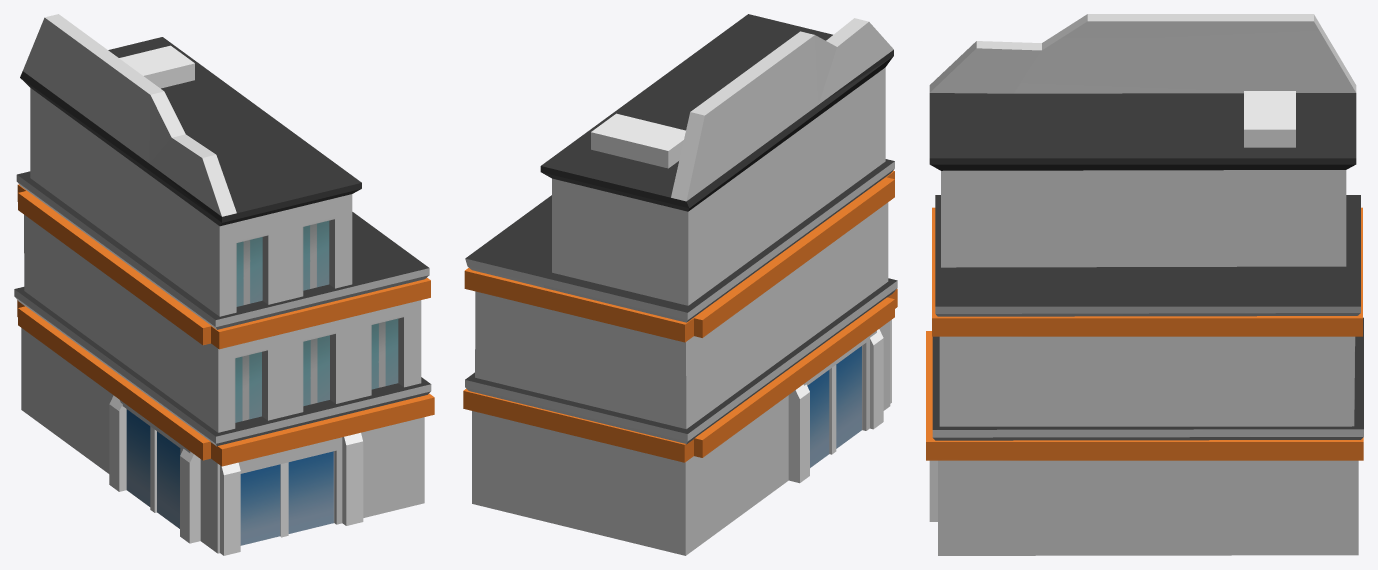
Rendered from French House 3.fbx.
3 views of the same model, side by side, from view 1: azimuth 30°, elevation 25°; view 2: azimuth 150°, elevation 25°; view 3: azimuth 270°, elevation 25° (orthographic). The views are drawn at different scales.
Parts seen in each view (by area): view 1: French House 3; view 2: French House 3; view 3: French House 3.
Part boxes in pixels (box(x1,y1,x2,y2)): French House 3: box(14, 14, 434, 555); French House 3: box(463, 14, 897, 555); French House 3: box(926, 14, 1363, 555).
Bounding box in the file's own units: 2.19 × 3.83 × 3.5.
